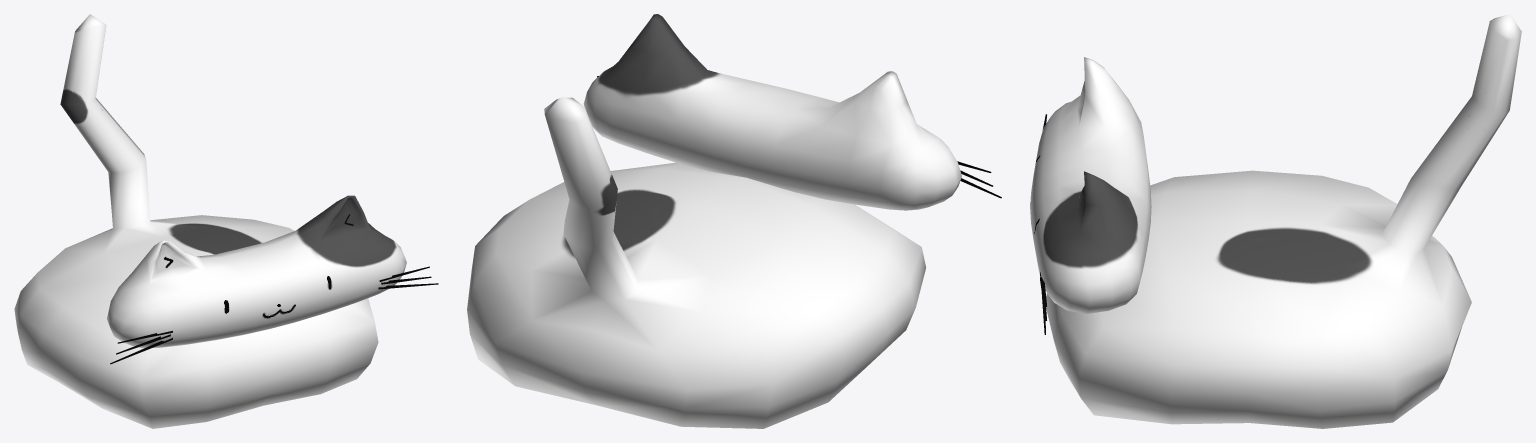
File: gainenPlain.fbx
3 renders of one model, left to right at view 1: azimuth 30°, elevation 25°; view 2: azimuth 150°, elevation 25°; view 3: azimuth 270°, elevation 25°, orthographic. The views are drawn at different scales.
Parts seen in each view (by area): view 1: Body, hige; view 2: Body; view 3: Body.
Boxes of the visible parts, x1,y1,x2,y2 form: Body: (14,14,406,428); hige: (110,266,438,364); Body: (467,14,961,428); Body: (1030,14,1521,428).
Size of the model in its own units: 302 by 237 by 311.
2 materials, 1 textured.
